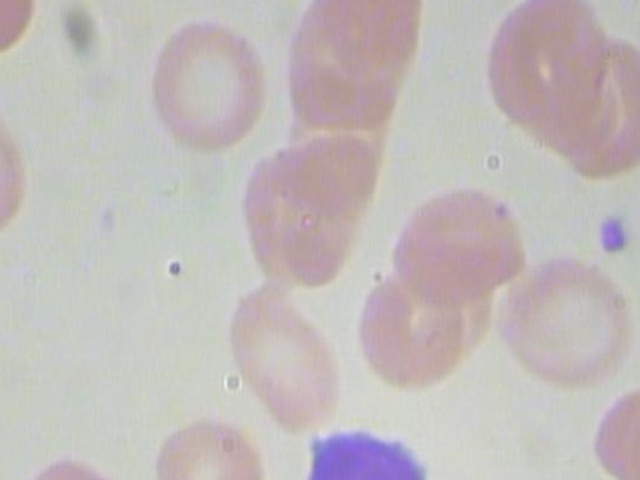Platelets: (595, 206, 640, 266)
RBC: (140, 0, 273, 153), (491, 258, 640, 394), (221, 285, 348, 440), (478, 0, 612, 137), (383, 181, 529, 303), (354, 265, 476, 390), (150, 413, 264, 480), (6, 446, 114, 480), (617, 378, 640, 480)
WBC: (287, 412, 455, 480)
